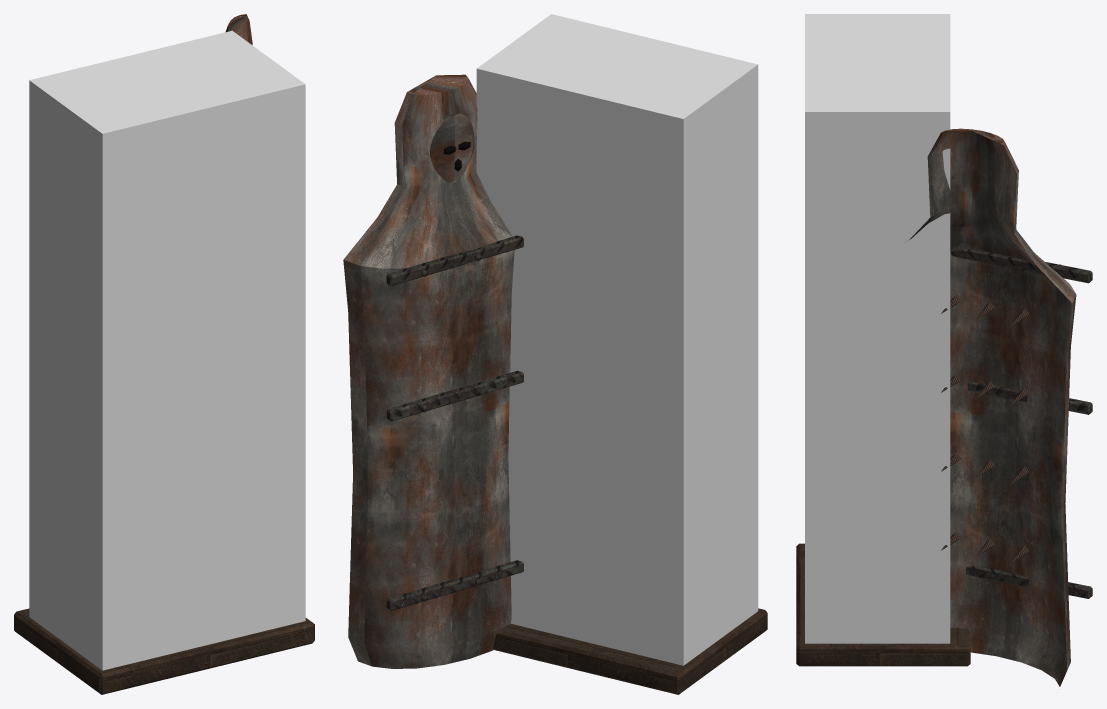
File: iron_maiden_v1.glb
3 views of the same model, side by side, from view 1: azimuth 30°, elevation 25°; view 2: azimuth 150°, elevation 25°; view 3: azimuth 270°, elevation 25° (orthographic). The views are drawn at different scales.
Visible parts, largest first — view 1: col_maiden, maiden_body, door; view 2: col_maiden, door, maiden_body; view 3: col_maiden, door, maiden_body.
Boxes of the visible parts, x1,y1,x2,y2 form: col_maiden: (29,30,305,670); maiden_body: (14,608,314,694); door: (225,14,252,44); col_maiden: (476,14,758,665); door: (343,74,523,668); maiden_body: (492,608,767,694); col_maiden: (805,14,950,643); door: (906,128,1092,686); maiden_body: (796,543,970,666).
Bounding box in the file's own units: 1.1 × 2.11 × 1.02.
6 materials, 6 textured.
